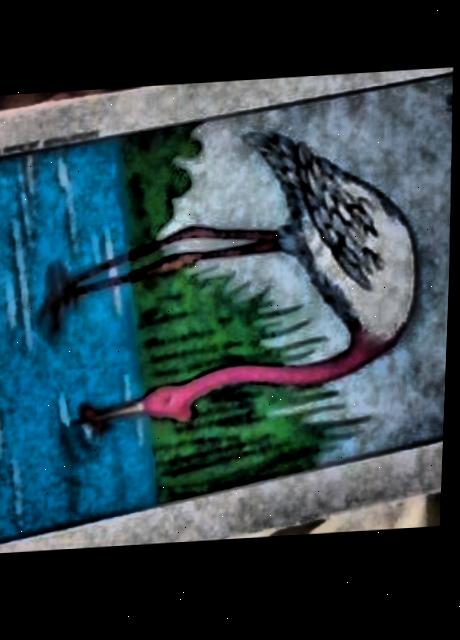El Garza: (0, 77, 453, 542)
